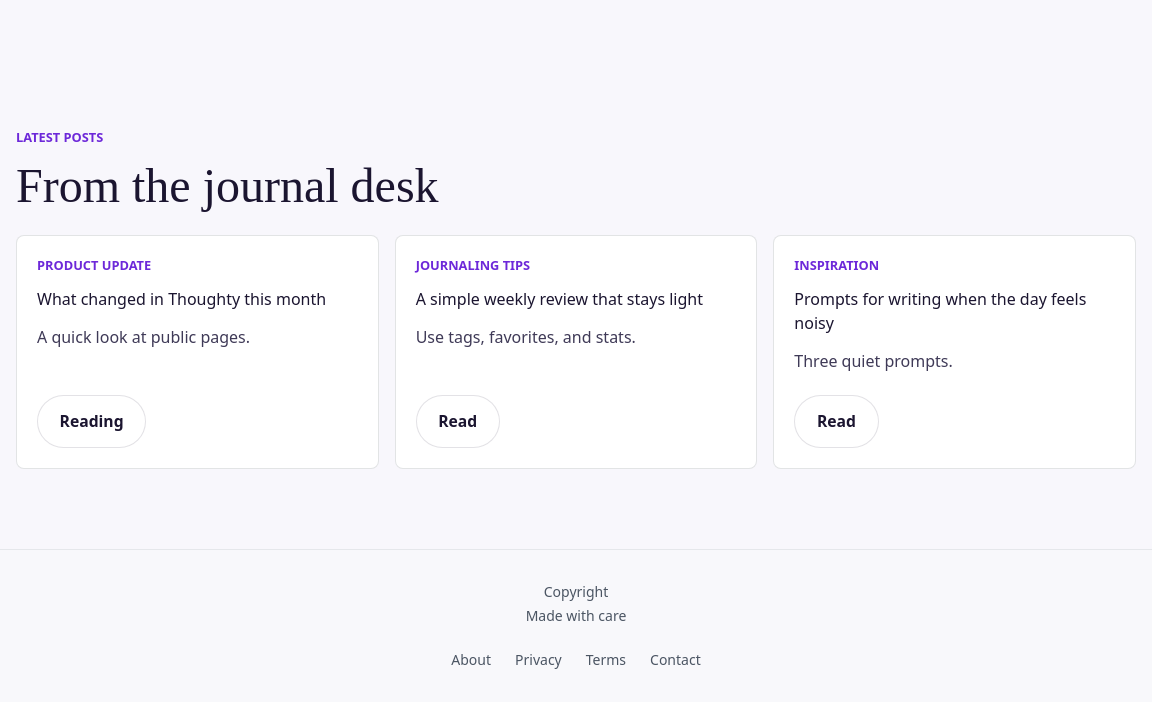
Scenario: BlogPage › switches the featured post when a reader chooses another article
This screenshot has width=1152, height=702.
(page scrolled)
Click the button "Read" below "Use tags, favorites, and stats.". click: {"x": 458, "y": 422}
box: [416, 396, 500, 448]
(page scrolled)
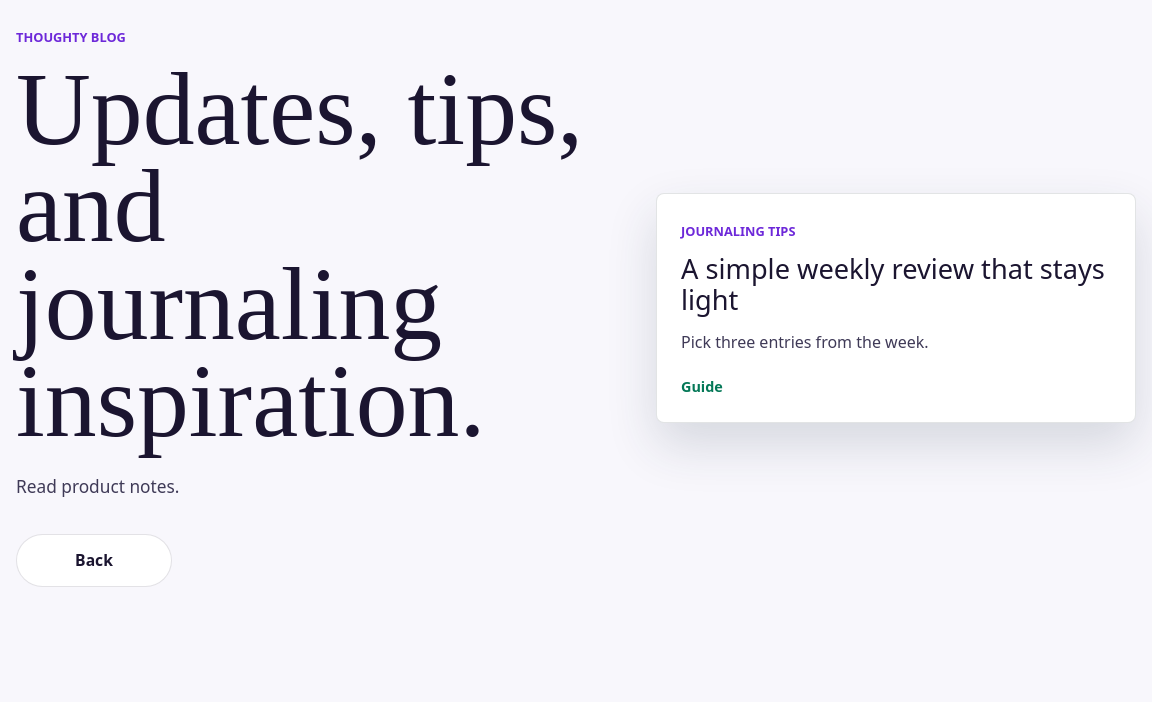
Check: the text "Pick three entries from the week." is shown, box [681, 331, 928, 353]
